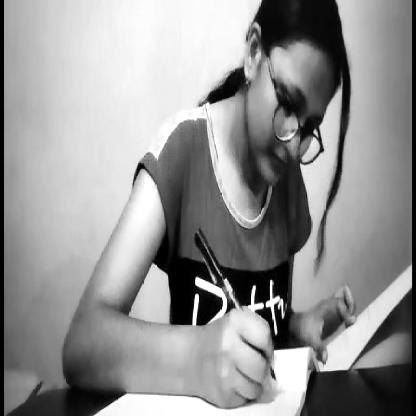Distracted: (237, 2, 346, 190)
